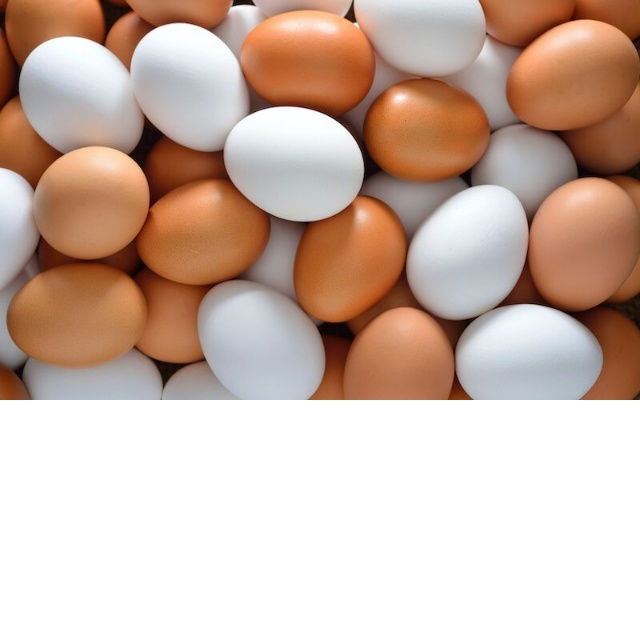mit: (503, 17, 640, 138), (134, 176, 276, 288), (290, 195, 412, 325), (527, 174, 636, 319), (2, 263, 148, 371), (237, 8, 379, 117), (27, 144, 153, 260), (361, 76, 490, 184), (341, 305, 456, 404)
